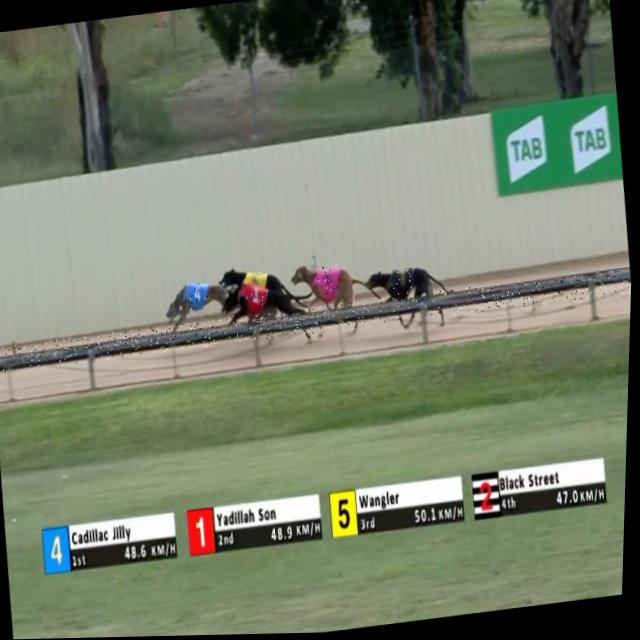dog_eight: (317, 266, 341, 297)
dog_five: (249, 272, 266, 292)
dog_four: (190, 282, 212, 311)
dog_one: (246, 285, 267, 310)
dog_seven: (393, 270, 417, 300)
rail: (0, 270, 631, 373)
